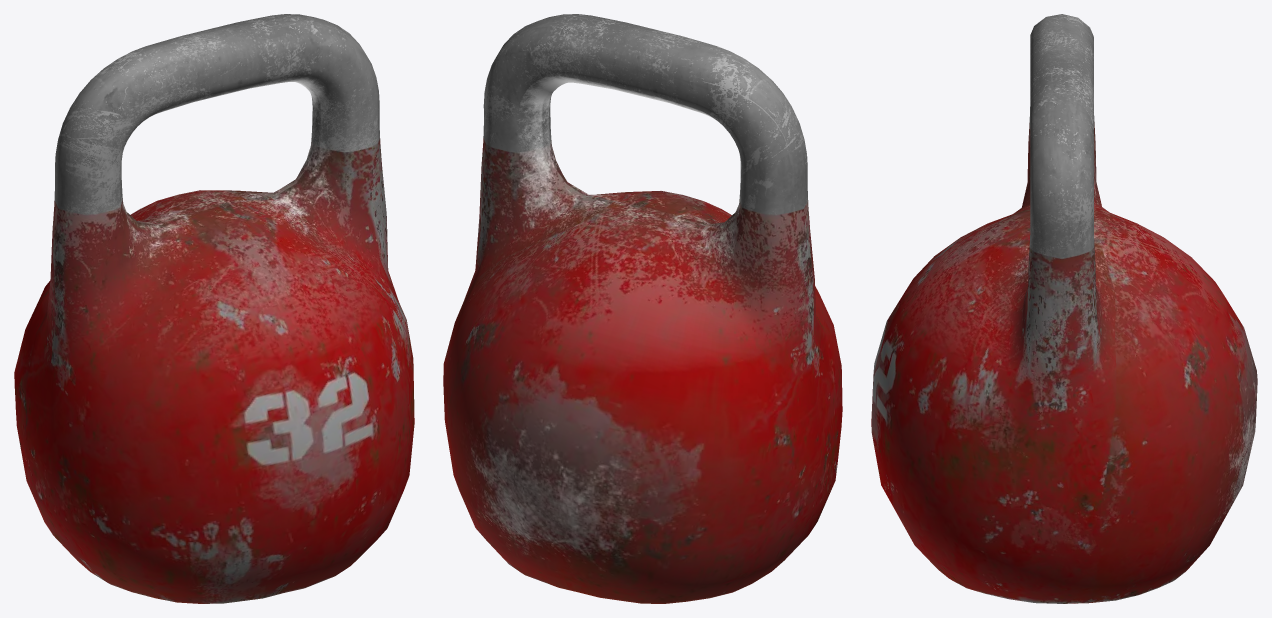
Rendered from kettlebell_32kg.glb.
3 renders of one model, left to right at view 1: azimuth 30°, elevation 25°; view 2: azimuth 150°, elevation 25°; view 3: azimuth 270°, elevation 25°, orthographic. The views are drawn at different scales.
Parts seen in each view (by area): view 1: kettlebell32; view 2: kettlebell32; view 3: kettlebell32.
Part boxes in pixels (box(x1,y1,x2,y2)): kettlebell32: box(14, 14, 414, 603); kettlebell32: box(443, 14, 842, 603); kettlebell32: box(871, 14, 1257, 603).
Bounding box in the file's own units: 0.1904 × 0.2706 × 0.1908.
Materials: 1 (1 with a texture image).
